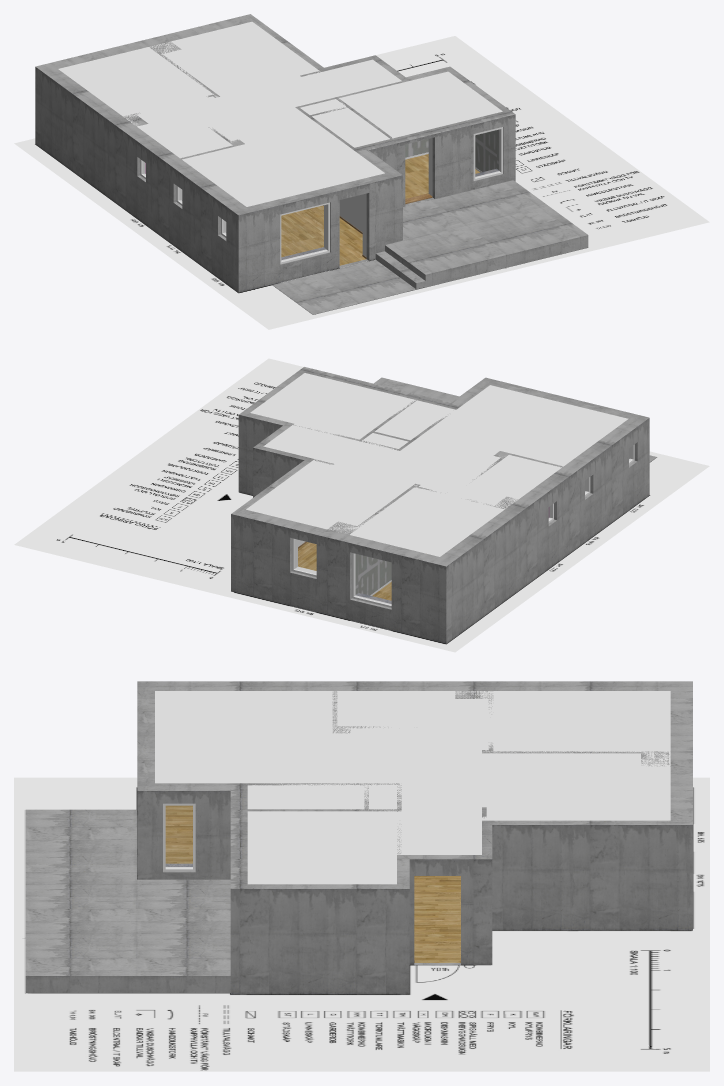
File: Floorplan_07.FBX
3 renders of one model, top to bottom at view 1: azimuth 30°, elevation 25°; view 2: azimuth 150°, elevation 25°; view 3: azimuth 270°, elevation 25°, orthographic. The views are drawn at different scales.
Visible parts, largest first — view 1: Walls&Floors, Ceiling, Floorplan, Balcony&Terrace, window 3; view 2: Walls&Floors, Ceiling, Floorplan, Balcony&Terrace; view 3: Floorplan, Ceiling, Walls&Floors, Balcony&Terrace, window 2.
Part boxes in pixels (bbox=[...]): Walls&Floors: bbox=[35, 14, 515, 292]; Ceiling: bbox=[58, 21, 502, 206]; Floorplan: bbox=[14, 36, 709, 329]; Balcony&Terrace: bbox=[273, 180, 588, 314]; window 3: bbox=[280, 202, 329, 264]; Walls&Floors: bbox=[231, 367, 649, 643]; Ceiling: bbox=[246, 373, 628, 556]; Floorplan: bbox=[14, 358, 709, 652]; Balcony&Terrace: bbox=[374, 377, 656, 461]; Floorplan: bbox=[14, 777, 709, 1071]; Ceiling: bbox=[155, 691, 670, 884]; Walls&Floors: bbox=[137, 681, 692, 994]; Balcony&Terrace: bbox=[25, 809, 230, 992]; window 2: bbox=[163, 803, 195, 871].
Size of the model in its own units: 14.9 by 2.51 by 14.9.
12 materials, 9 textured.
